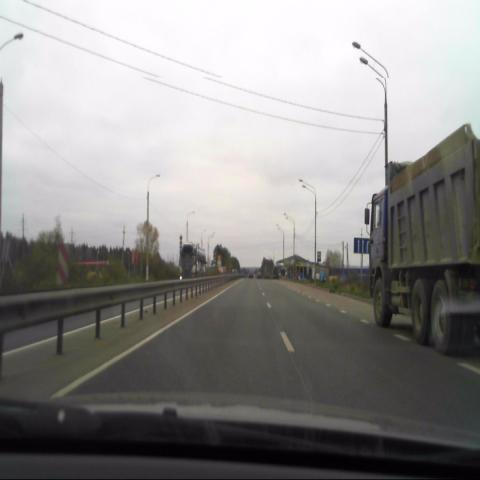5_15_1: (352, 235, 372, 256)
